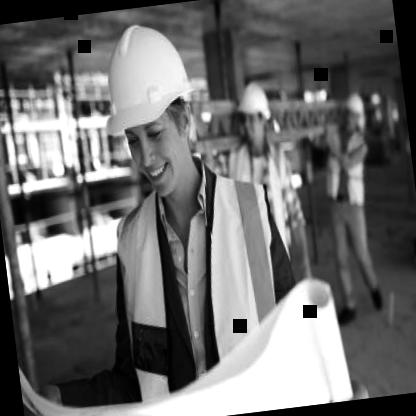helmet: (87, 11, 213, 213), (233, 78, 276, 154)
